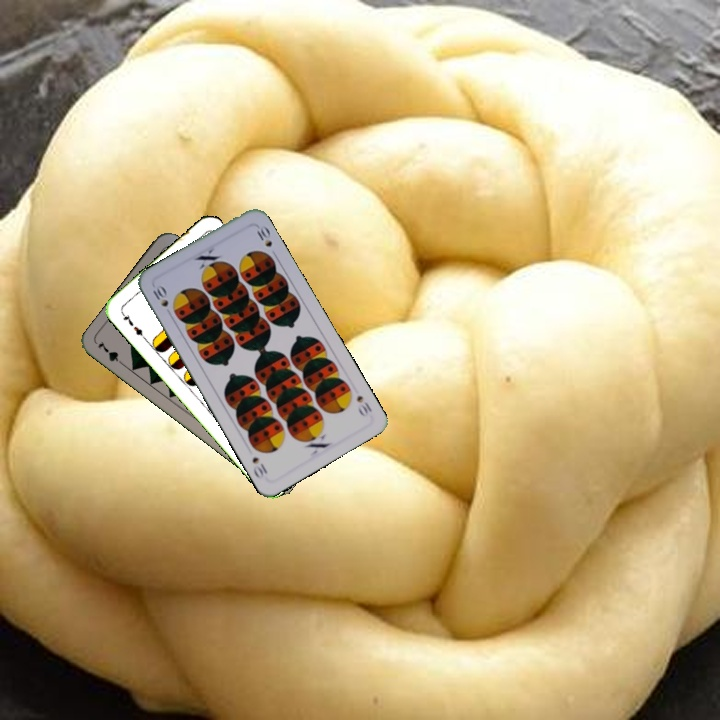E7: (117, 308, 148, 342)
G7: (93, 337, 128, 369)
S10: (147, 281, 174, 319), (352, 391, 375, 420)
